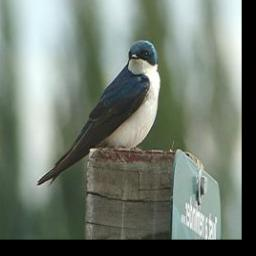Swallow: (36, 39, 161, 187)
